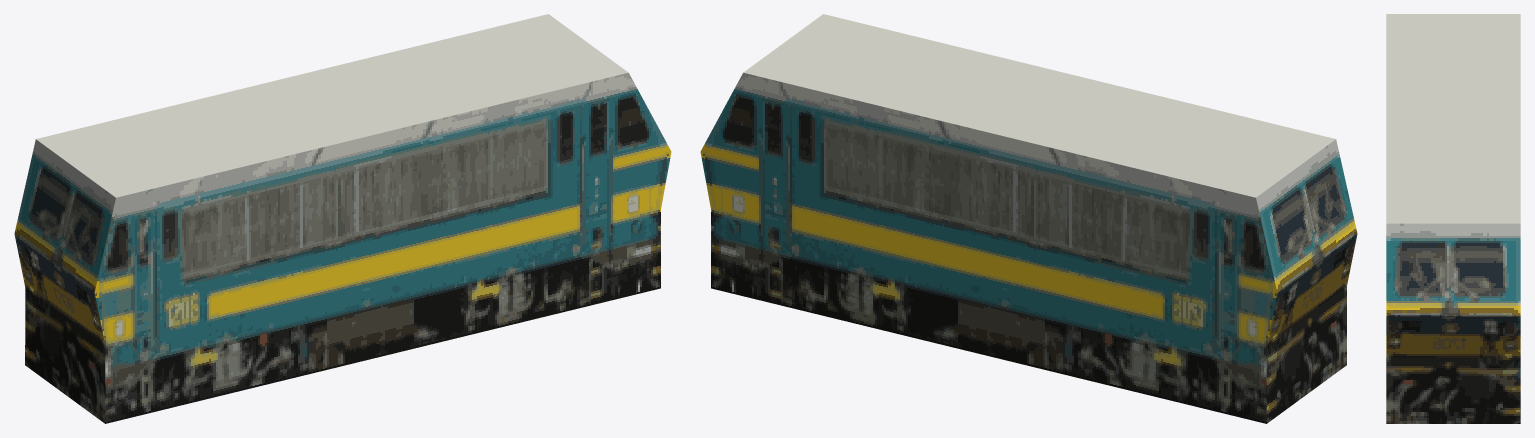
File: HLE16.glb
The picture shows the model from 3 angles, left to right: view 1: azimuth 30°, elevation 25°; view 2: azimuth 150°, elevation 25°; view 3: azimuth 270°, elevation 25°; orthographic projection. The views are drawn at different scales.
Visible parts, largest first — view 1: Cube; view 2: Cube; view 3: Cube.
Boxes of the visible parts, x1,y1,x2,y2 form: Cube: [14, 14, 671, 423]; Cube: [700, 14, 1357, 423]; Cube: [1386, 14, 1520, 423].
Size of the model in its own units: 10.8 by 4 by 2.6.
1 material, 1 textured.
